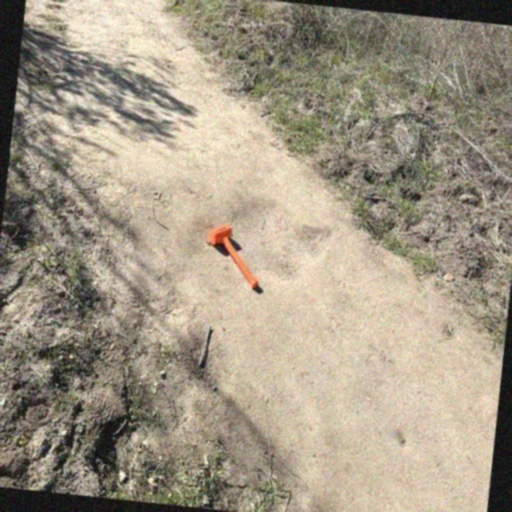mallet: (204, 222, 264, 288)
